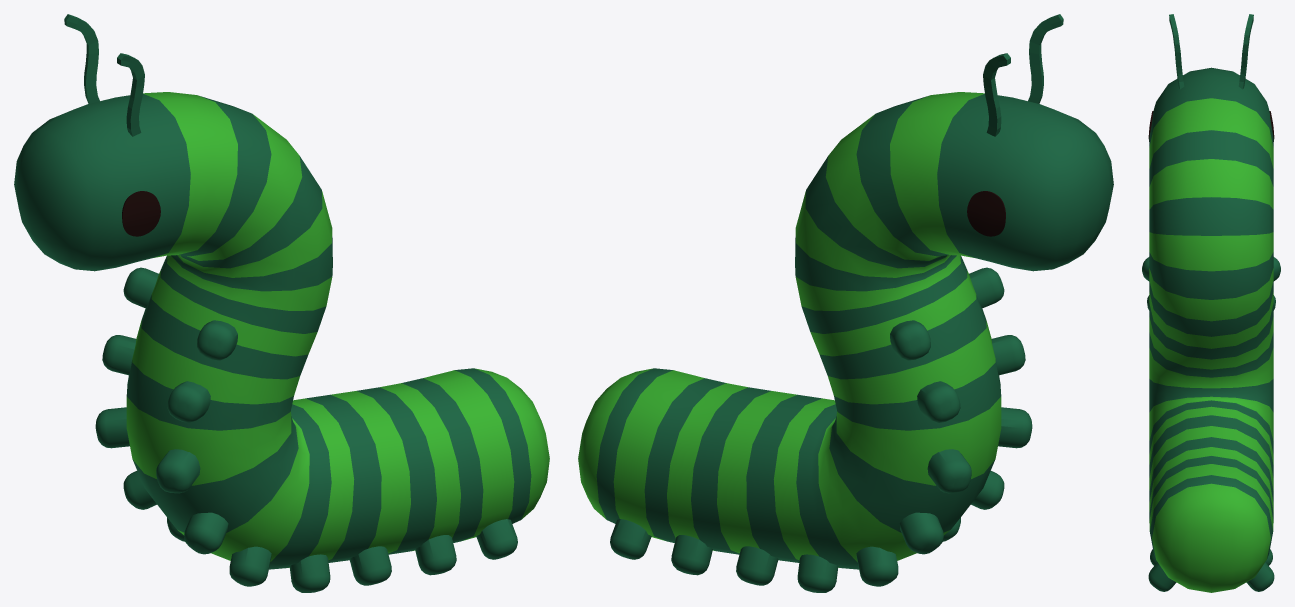
The model's file is Bug.gltf.
The picture shows the model from 3 angles, left to right: view 1: azimuth 30°, elevation 25°; view 2: azimuth 150°, elevation 25°; view 3: azimuth 270°, elevation 25°; orthographic projection. The views are drawn at different scales.
Parts seen in each view (by area): view 1: Plane.175, Cube.130, Circle.1993; view 2: Plane.175, Cube.130, Circle.1993; view 3: Plane.175, Cube.130.
Boxes of the visible parts, x1,y1,x2,y2 form: Plane.175: (14,92,549,569); Cube.130: (64,14,517,592); Circle.1993: (122,191,160,236); Plane.175: (578,92,1113,569); Cube.130: (610,14,1063,592); Circle.1993: (967,191,1005,236); Plane.175: (1149,67,1273,592); Cube.130: (1142,14,1280,591).
Size of the model in its own units: 1.72 by 1.93 by 0.5495.
